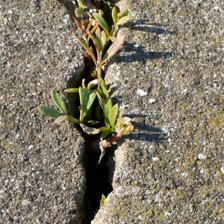Crack: (28, 3, 105, 220)
